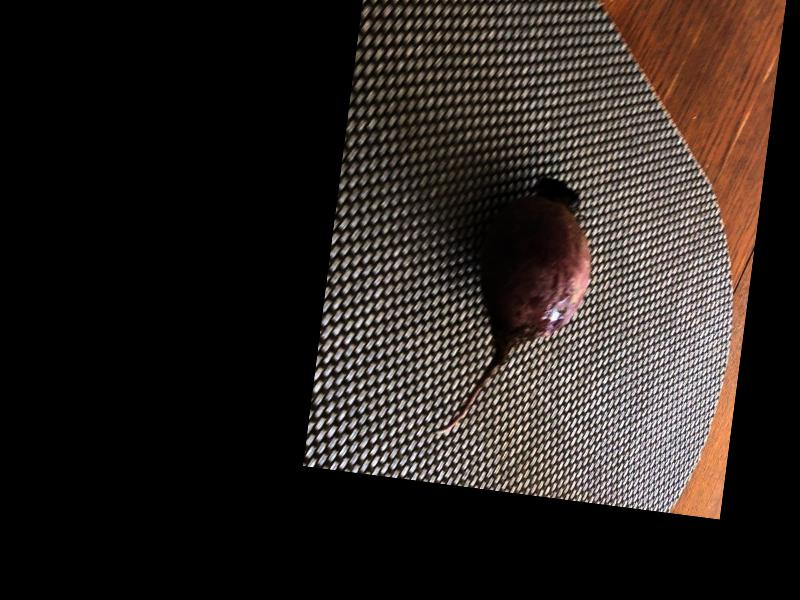Beet: (434, 166, 601, 451)
